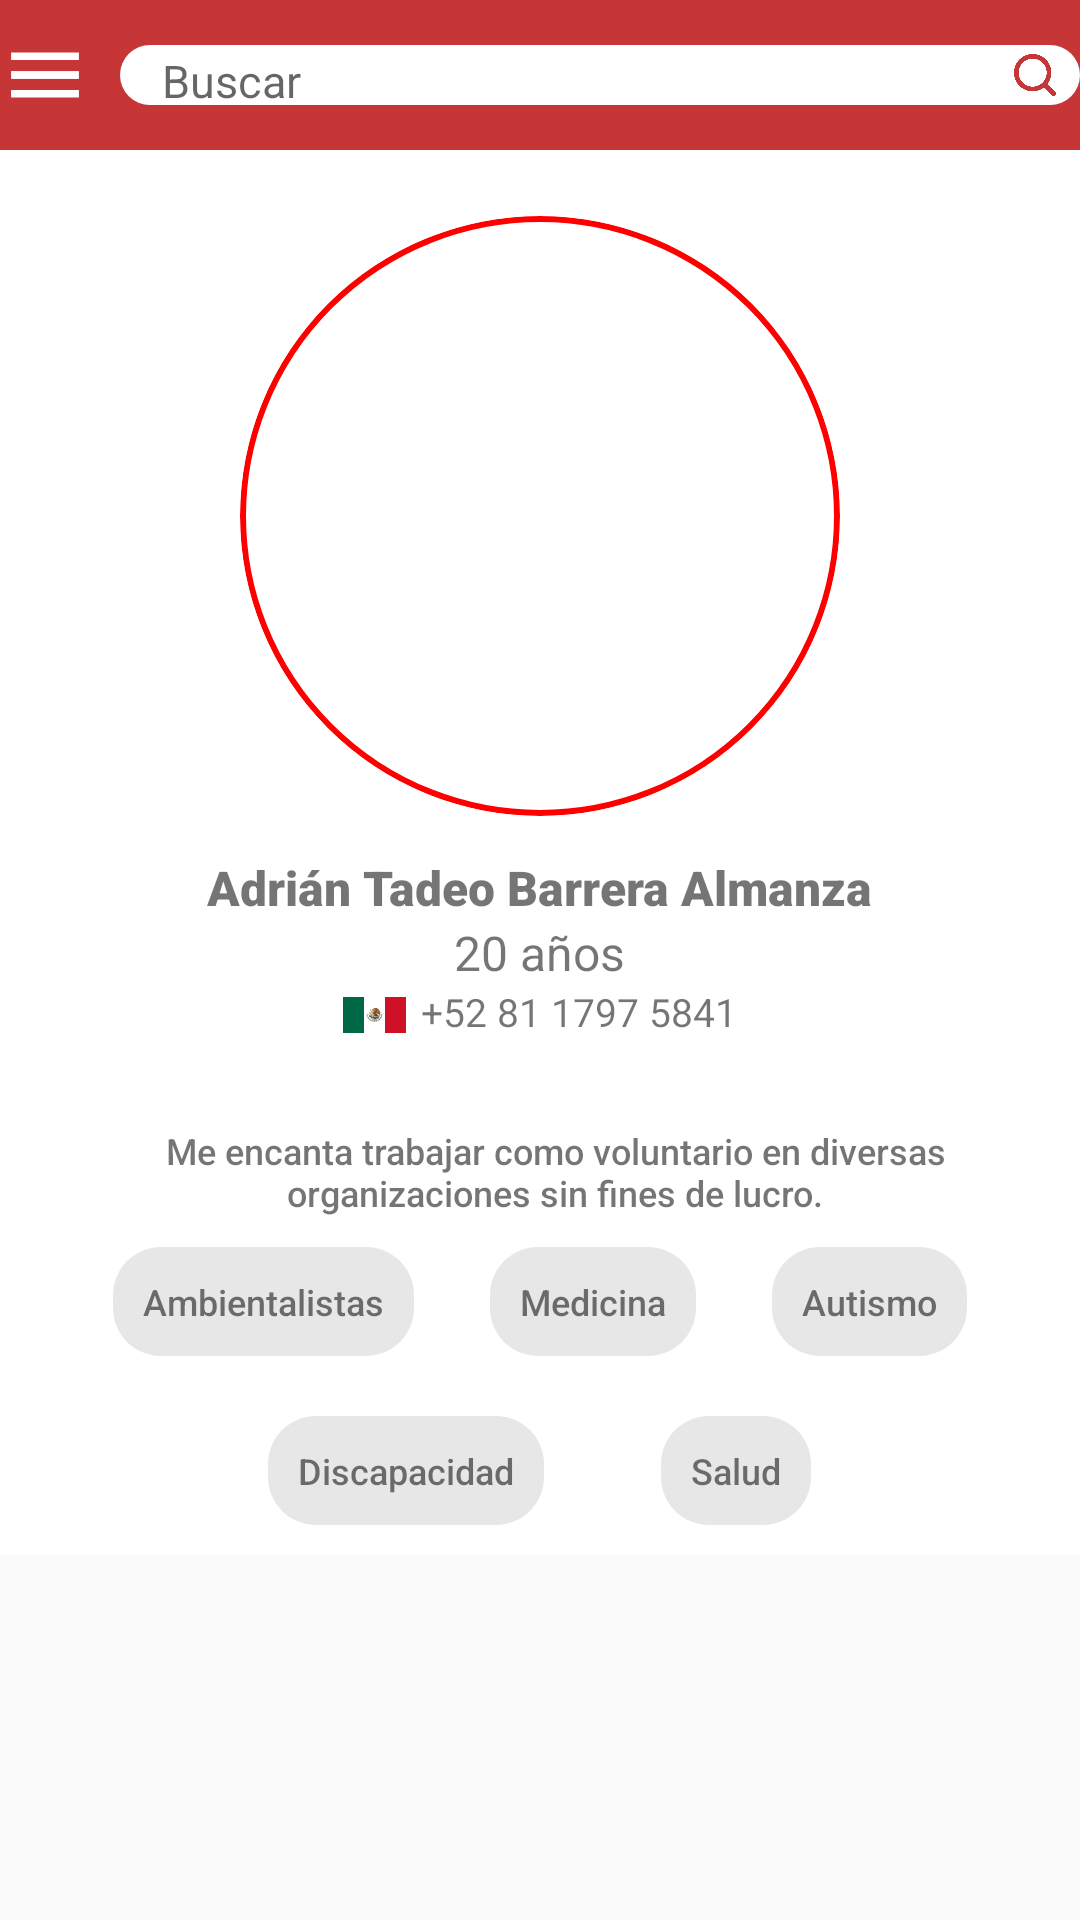

Icons on this 1080px×1920px Android screen, each with its box as (x1, y1, x2, y2):
ban mexico: (343, 997, 406, 1033)
zzimg plantilla tresbarras: (11, 52, 79, 98)
